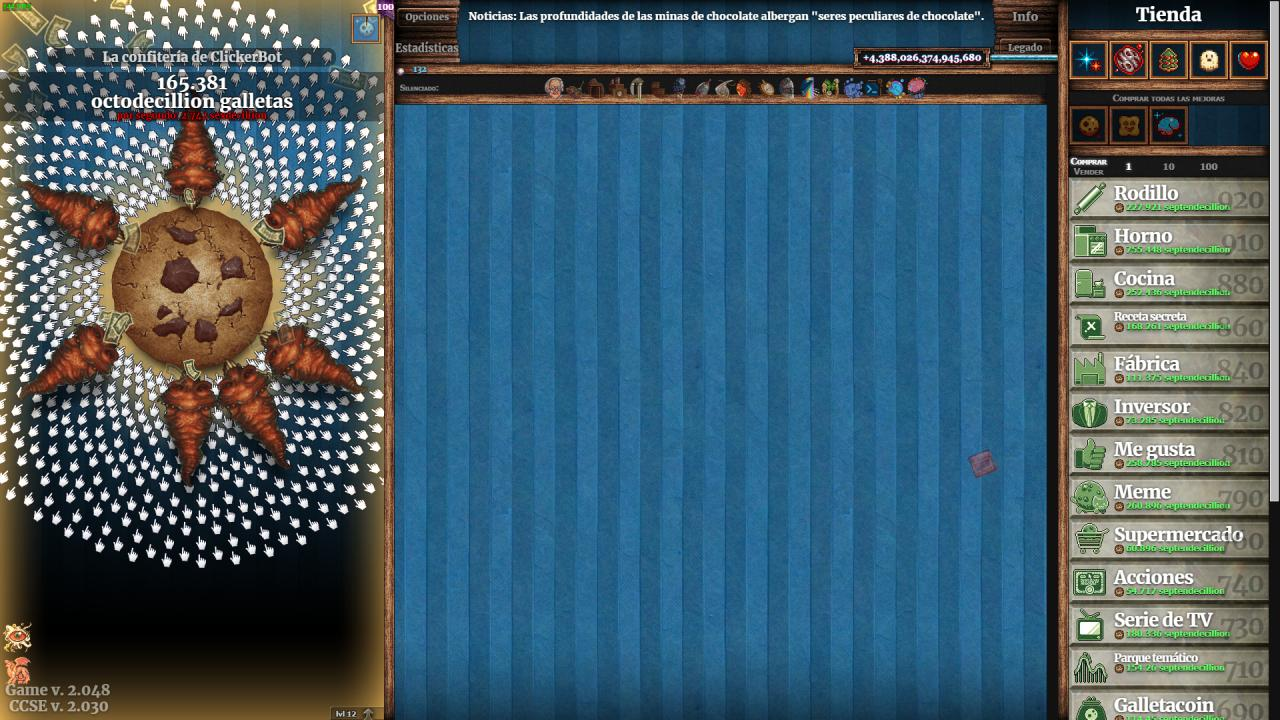RedCartridge: (967, 447, 999, 480)
